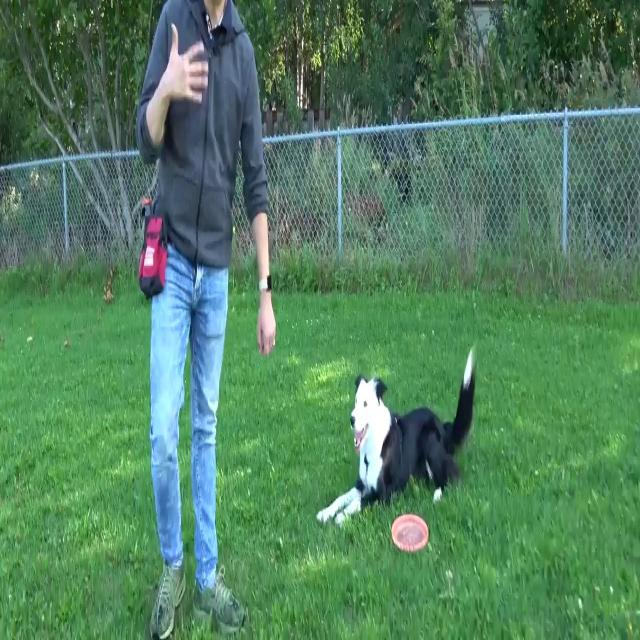Unleashed_Dog: (187, 236, 475, 524)
